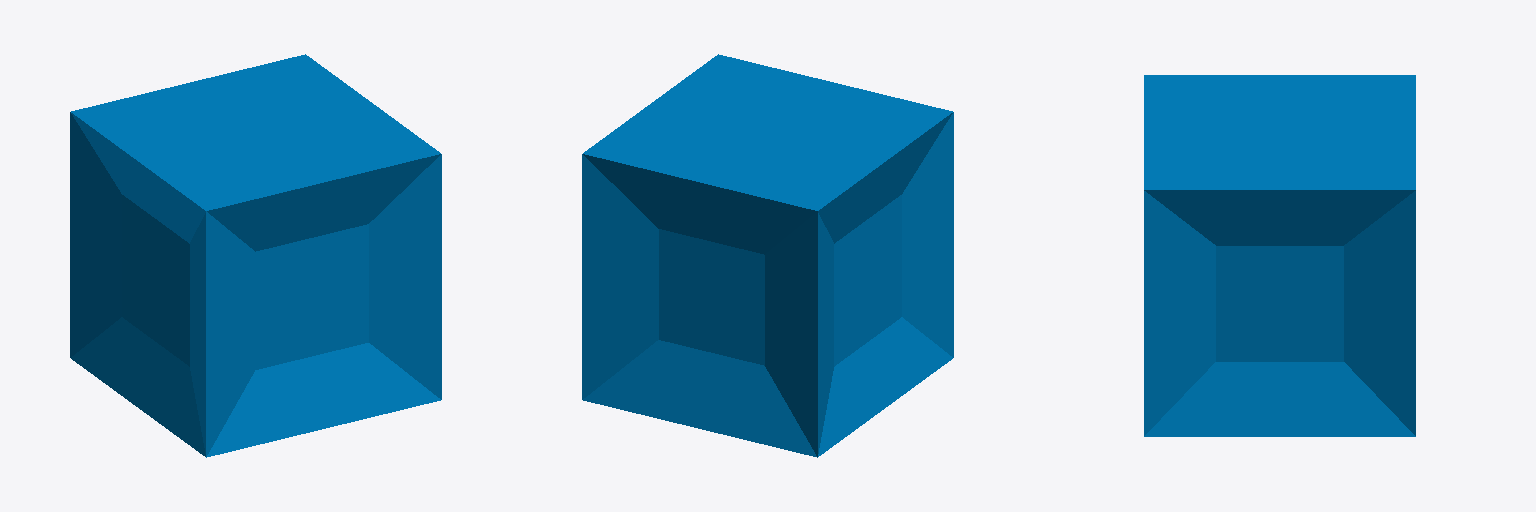
Rendered from lamp.obj.
3 renders of one model, left to right at view 1: azimuth 30°, elevation 25°; view 2: azimuth 150°, elevation 25°; view 3: azimuth 270°, elevation 25°, orthographic.
Parts seen in each view (by area): view 1: Cube; view 2: Cube; view 3: Cube.
Boxes of the visible parts, box(x1,y1,x2,y2) form: Cube: box(70, 54, 441, 457); Cube: box(582, 54, 953, 457); Cube: box(1144, 75, 1415, 436).
Bounding box in the file's own units: 1 × 1 × 1.